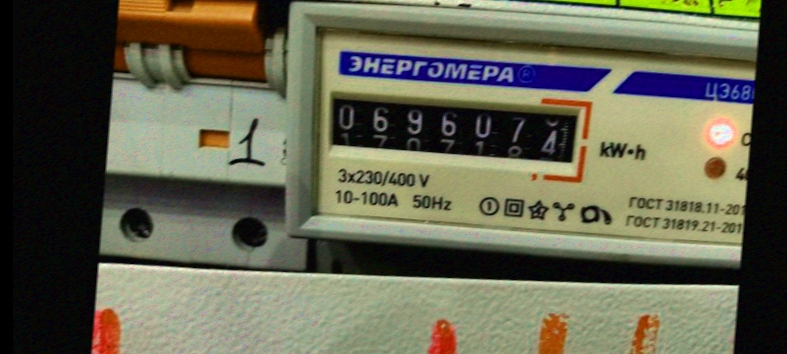0: (337, 100, 358, 131), (472, 110, 493, 138)
4: (539, 127, 559, 157)
6: (439, 107, 460, 137), (371, 104, 391, 132)
7: (507, 113, 528, 144)
9: (404, 107, 424, 136)
screen: (313, 76, 598, 184)
